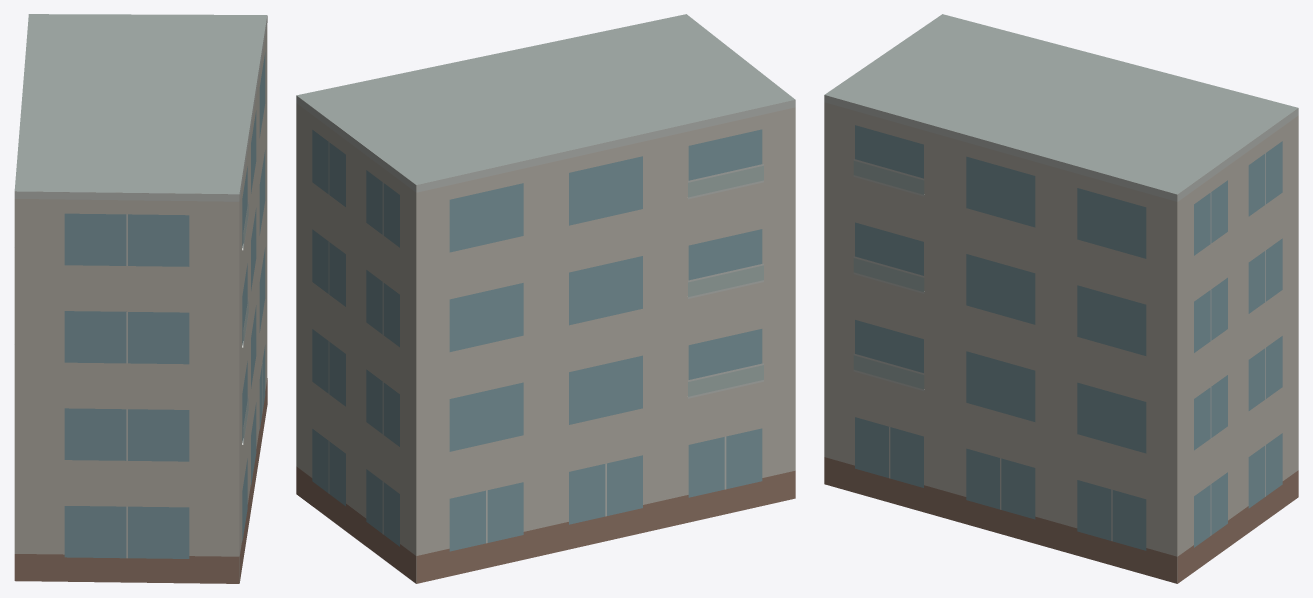
File: survey-upis-32904295.glb
3 renders of one model, left to right at view 1: azimuth 30°, elevation 25°; view 2: azimuth 150°, elevation 25°; view 3: azimuth 270°, elevation 25°, orthographic. The views are drawn at different scales.
Visible parts, largest first — view 1: survey-upis-32904295.tmp; view 2: survey-upis-32904295.tmp; view 3: survey-upis-32904295.tmp.
Boxes of the visible parts, <box> form: survey-upis-32904295.tmp: <box>14,14,267,583</box>; survey-upis-32904295.tmp: <box>296,14,795,583</box>; survey-upis-32904295.tmp: <box>824,14,1298,583</box>.
Size of the model in its own units: 12.74 by 12.8 by 14.14.
